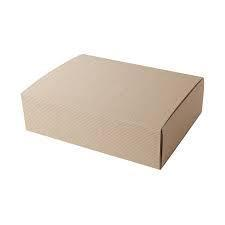box: (20, 53, 204, 171)
